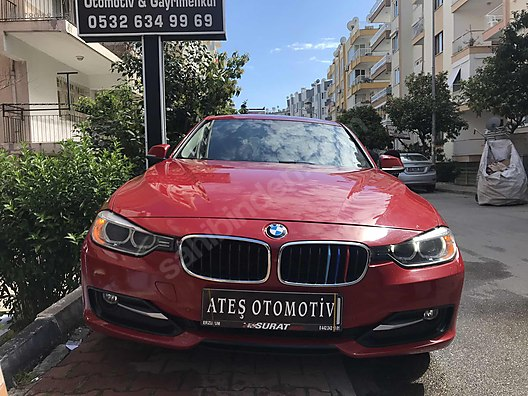bmw: (73, 111, 467, 363)
